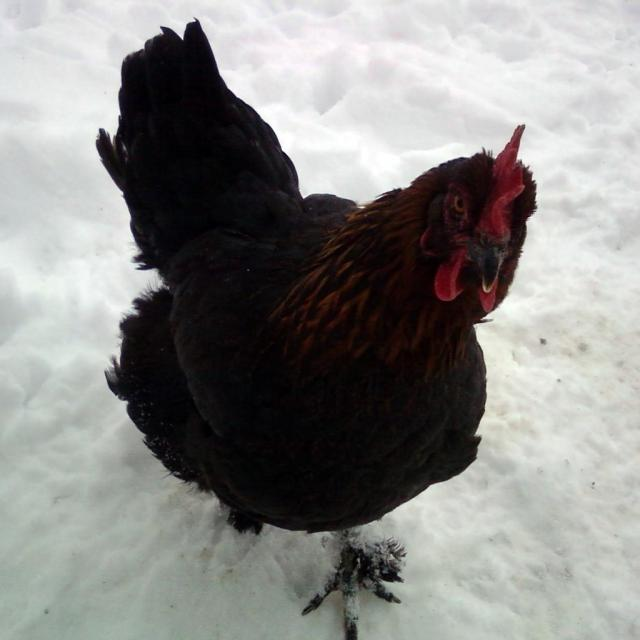Chicken: (95, 17, 536, 640)
